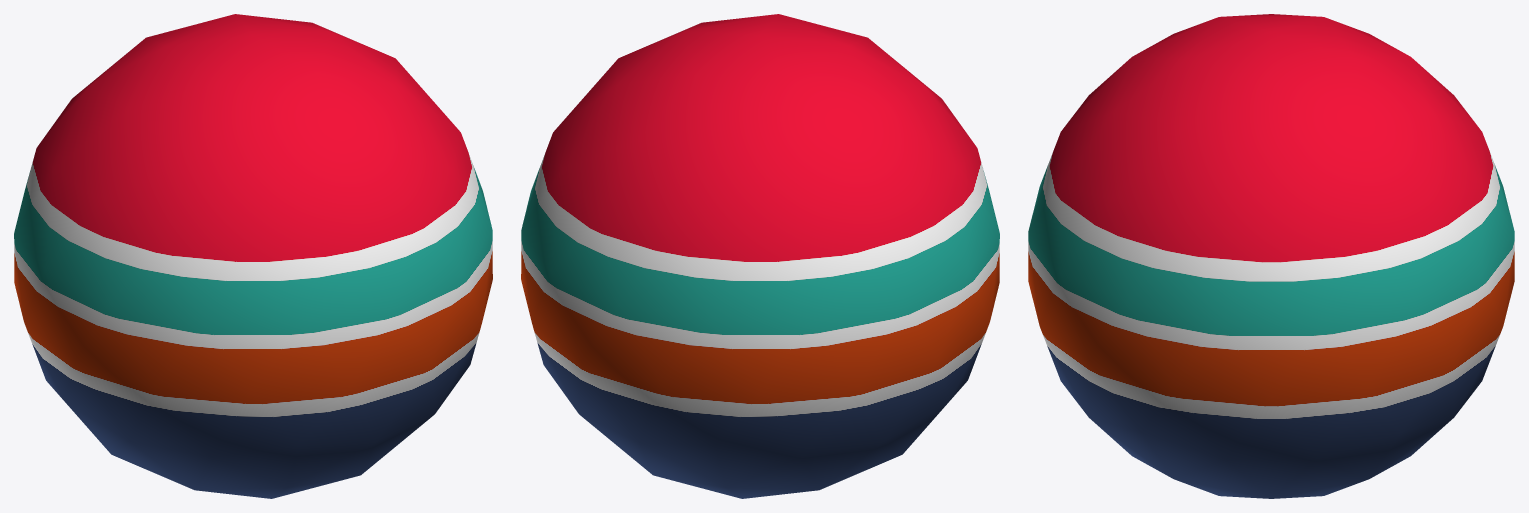
The model's file is ball@run.FBX.
The picture shows the model from 3 angles, left to right: view 1: azimuth 30°, elevation 25°; view 2: azimuth 150°, elevation 25°; view 3: azimuth 270°, elevation 25°; orthographic projection.
Visible parts, largest first — view 1: ball; view 2: ball; view 3: ball.
Boxes of the visible parts, x1,y1,x2,y2 form: ball: [14, 14, 492, 498]; ball: [521, 14, 999, 498]; ball: [1028, 14, 1514, 498].
Bounding box in the file's own units: 95.66 × 97.07 × 95.43.
